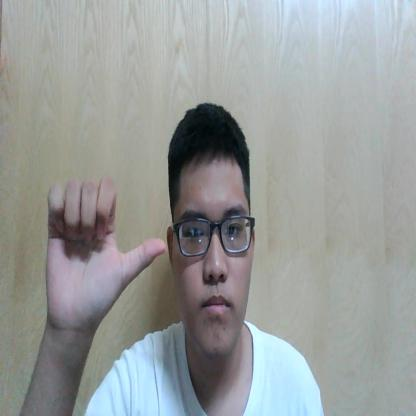left: (44, 176, 167, 329)
